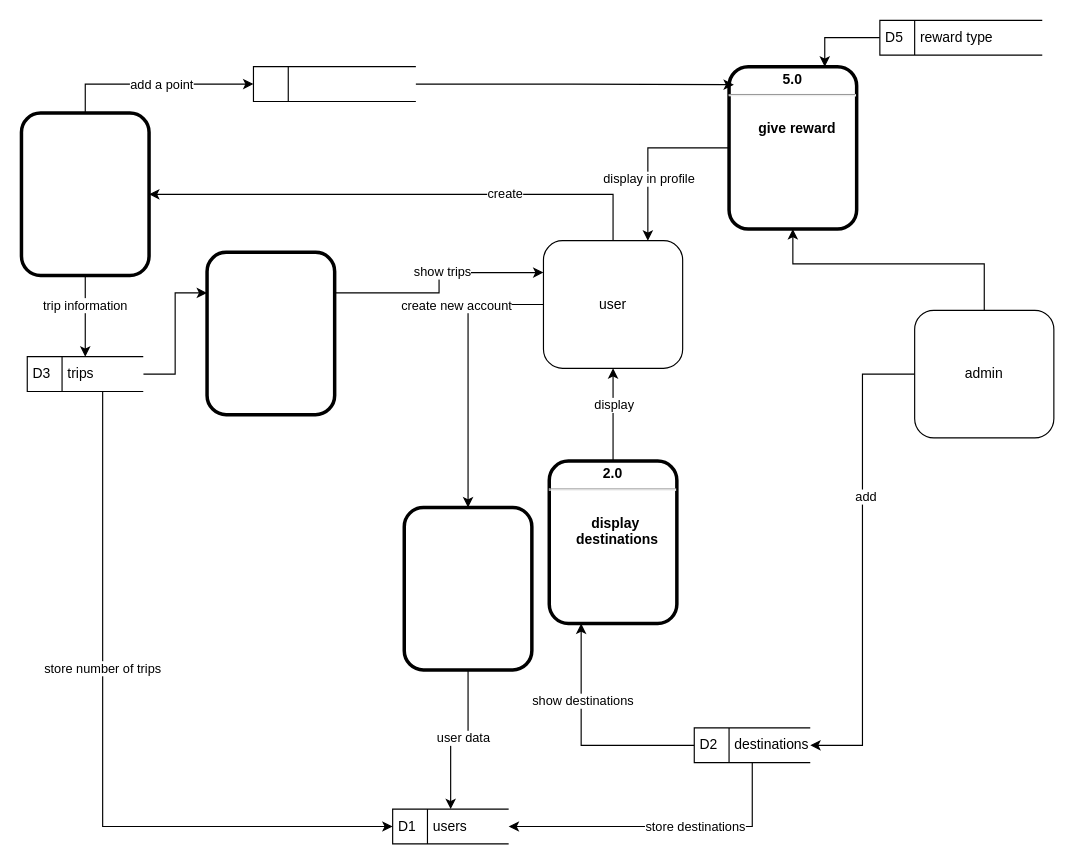
Some shapes in this 1074 by 864 pixel diagram are drawn without their labels. The centre of each missing label's shape, as x and y in pixels:
1.0 user registration: point (467, 588)
3.0 create a trip: point (84, 194)
4.0 display trips: point (270, 333)
D4 reward transactions: point (334, 84)
